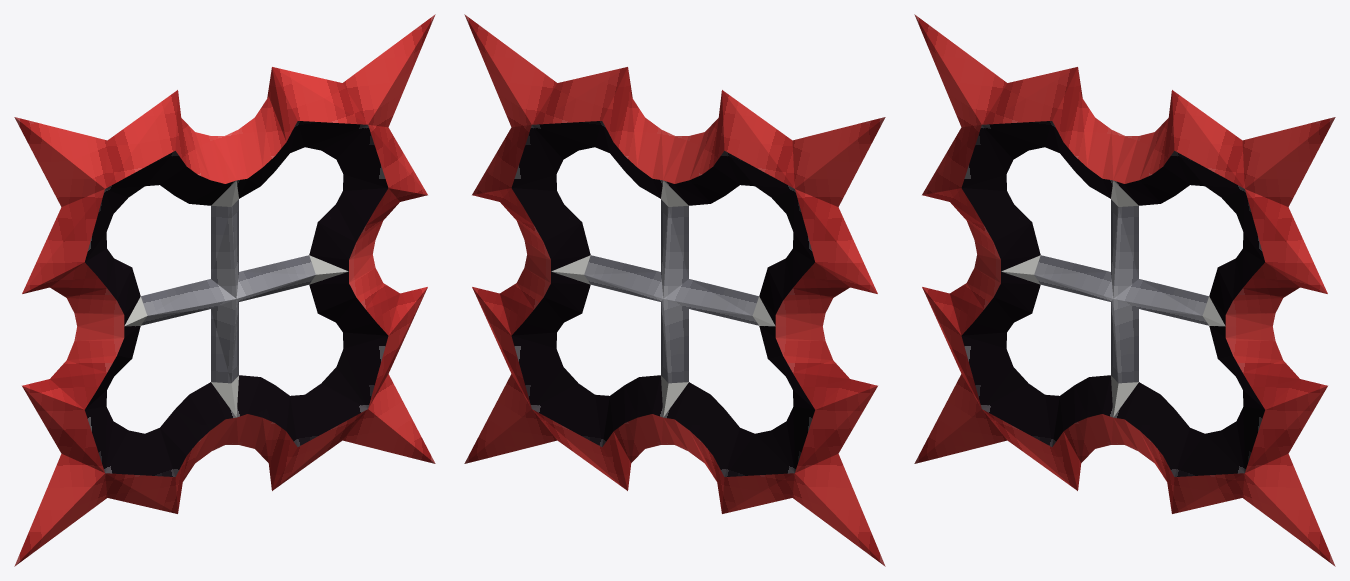
Rendered from combustion.obj.
3 views of the same model, side by side, from view 1: azimuth 30°, elevation 25°; view 2: azimuth 150°, elevation 25°; view 3: azimuth 330°, elevation 25° (orthographic).
Size of the model in its own units: 60 by 61.23 by 5.73.
